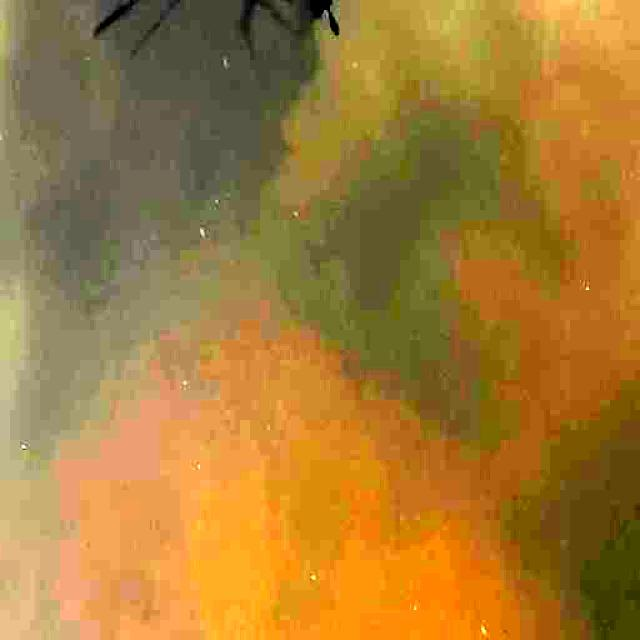drone: (105, 0, 366, 85)
